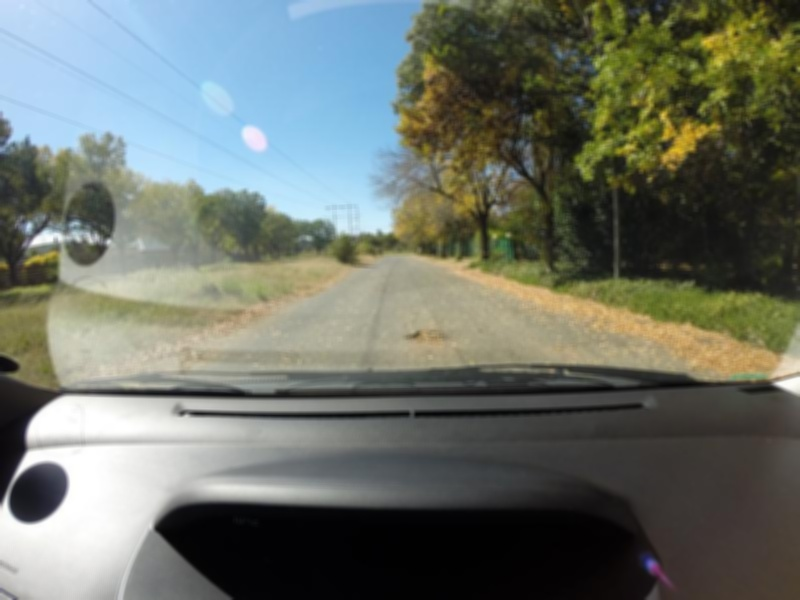pothole: (401, 321, 451, 351)
